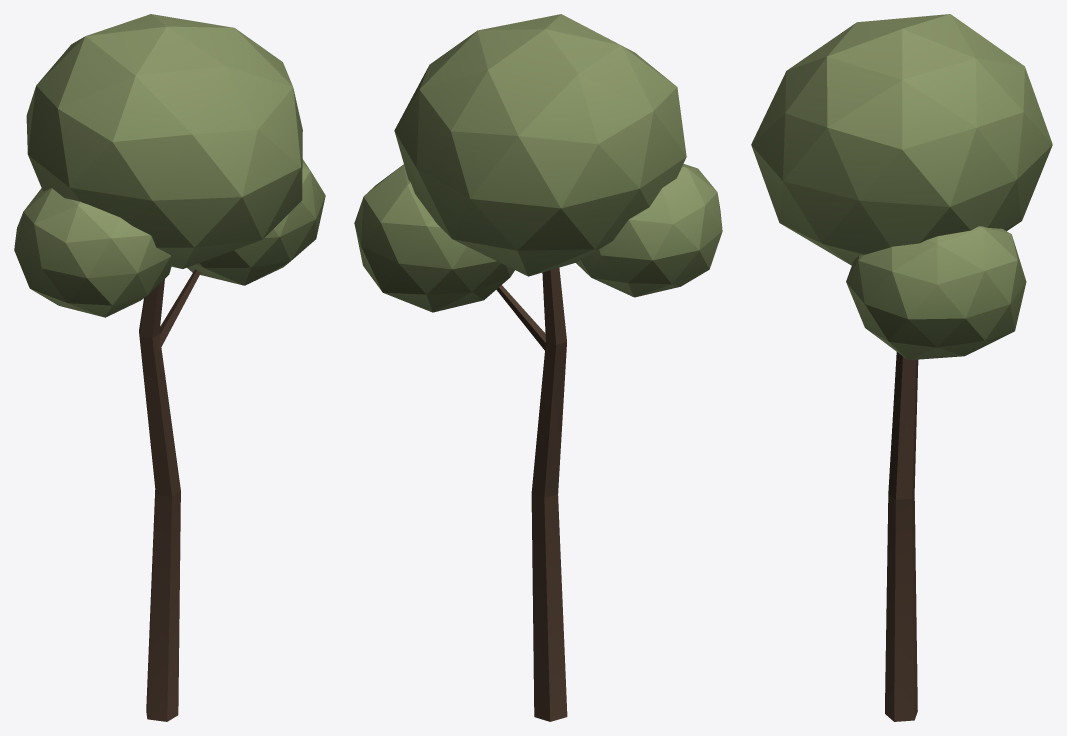
The model's file is sapling-broadleaf.glb.
The picture shows the model from 3 angles, left to right: view 1: azimuth 30°, elevation 25°; view 2: azimuth 150°, elevation 25°; view 3: azimuth 270°, elevation 25°; orthographic projection.
Visible parts, largest first — view 1: sapling-broadleaf; view 2: sapling-broadleaf; view 3: sapling-broadleaf.
Part boxes in pixels (<box>): sapling-broadleaf: <box>14,14,325,721</box>; sapling-broadleaf: <box>354,14,722,721</box>; sapling-broadleaf: <box>751,14,1052,721</box>.
Size of the model in its own units: 1.04 by 2.16 by 0.8587.
